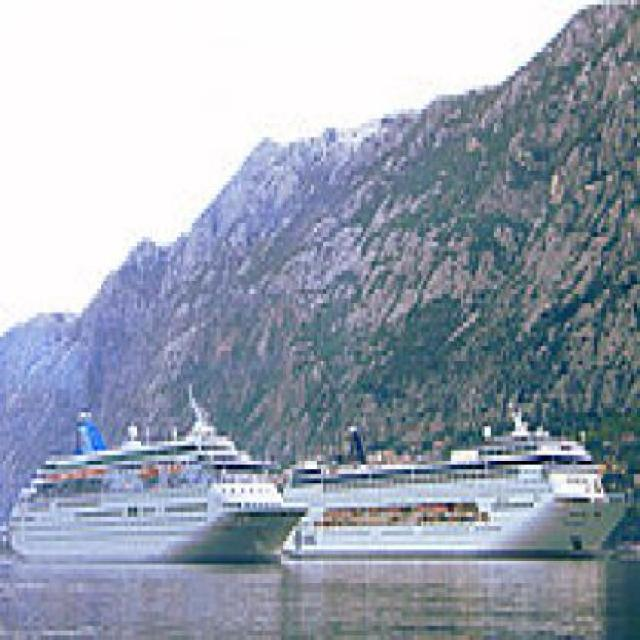cruise: (278, 433, 638, 590), (7, 389, 309, 565)
